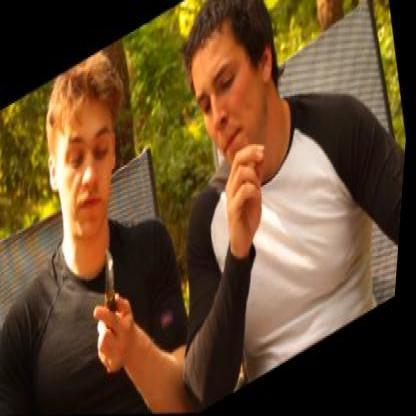knife: (73, 223, 149, 365)
